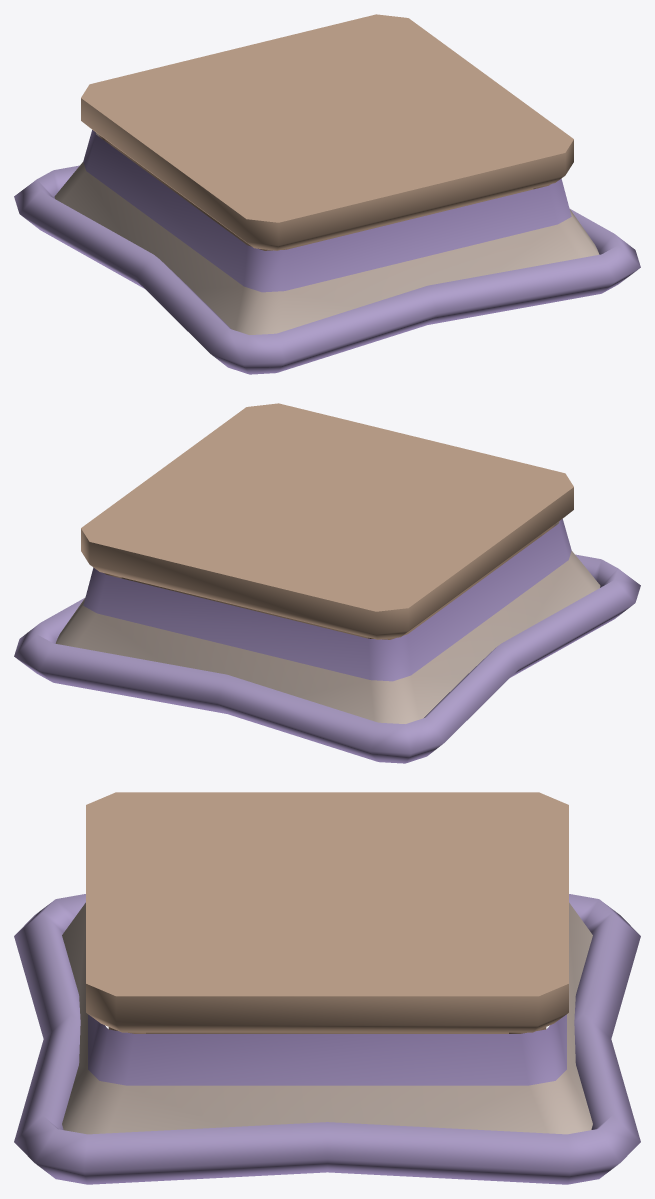
The model's file is table-kotatsu.glb.
3 renders of one model, top to bottom at view 1: azimuth 30°, elevation 25°; view 2: azimuth 150°, elevation 25°; view 3: azimuth 270°, elevation 25°, orthographic. The views are drawn at different scales.
Parts seen in each view (by area): view 1: table-kotatsu; view 2: table-kotatsu; view 3: table-kotatsu.
Part boxes in pixels (bbox=[...]): table-kotatsu: bbox=[14, 14, 640, 374]; table-kotatsu: bbox=[14, 403, 640, 763]; table-kotatsu: bbox=[14, 792, 640, 1184].
Bounding box in the file's own units: 1.04 × 0.3146 × 1.04.
